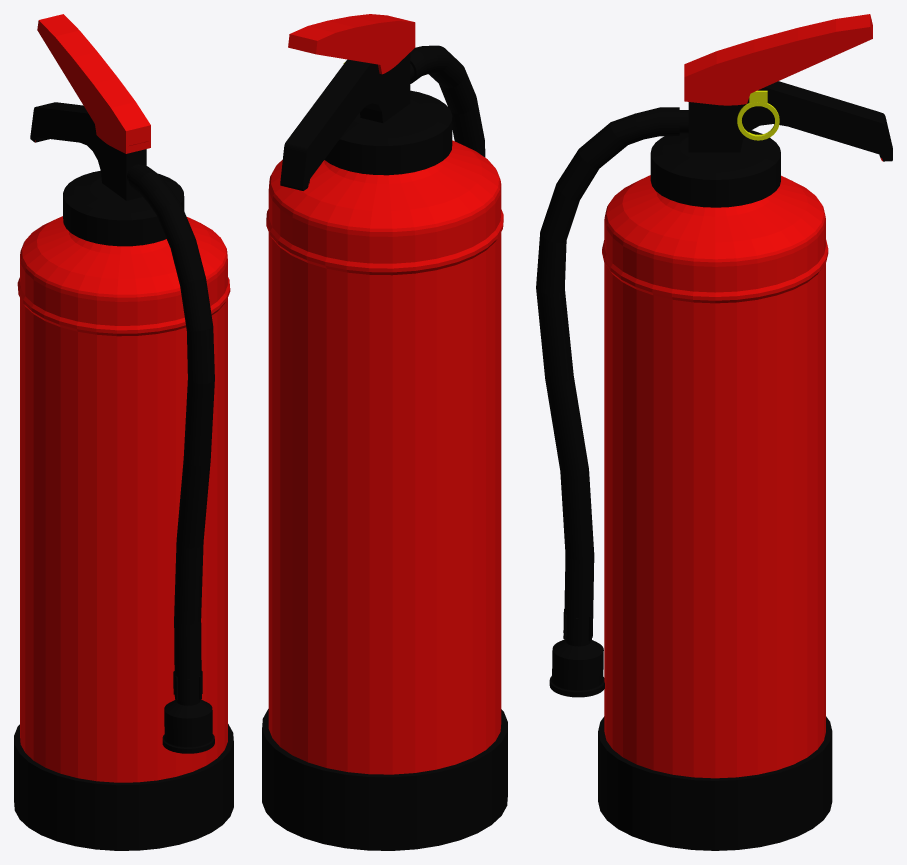
The model's file is MESH_Folgorazione_Estintore.fbx.
3 views of the same model, side by side, from view 1: azimuth 30°, elevation 25°; view 2: azimuth 150°, elevation 25°; view 3: azimuth 270°, elevation 25° (orthographic). The views are drawn at different scales.
Visible parts, largest first — view 1: Estintore; view 2: Estintore; view 3: Estintore.
Part boxes in pixels (x1,y1,x2,y2): Estintore: [14, 14, 233, 850]; Estintore: [262, 14, 507, 850]; Estintore: [536, 14, 892, 850].
Size of the model in its own units: 7.53 by 27.7 by 11.47.
